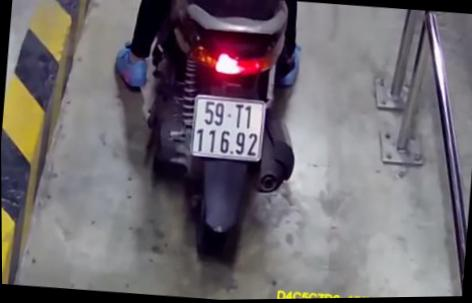LP: (188, 83, 276, 167)
